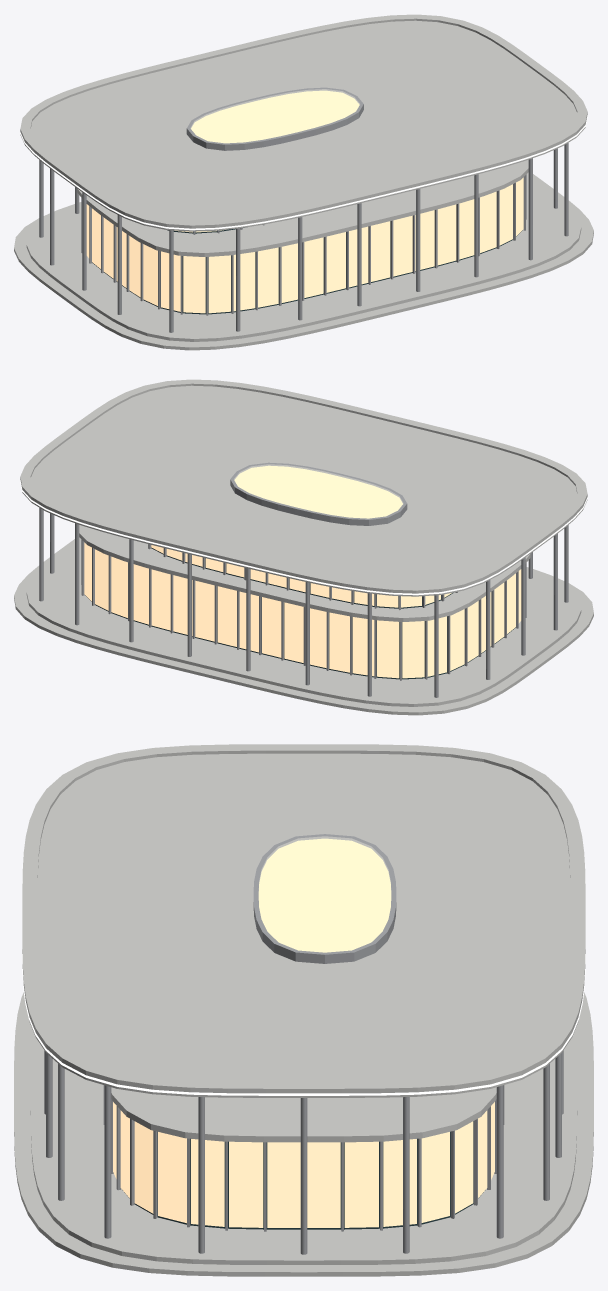
Rendered from glass-pavilion.glb.
3 renders of one model, top to bottom at view 1: azimuth 30°, elevation 25°; view 2: azimuth 150°, elevation 25°; view 3: azimuth 270°, elevation 25°, orthographic. The views are drawn at different scales.
Visible parts, largest first — view 1: Body_Concrete, Windows, Body_Metal, Accent, Body_Glass; view 2: Body_Concrete, Windows, Body_Metal, Body_Glass, Accent; view 3: Body_Concrete, Windows, Body_Metal, Accent, Body_Glass.
Boxes of the visible parts, x1,y1,x2,y2 form: Body_Concrete: (14, 14, 593, 350); Windows: (86, 90, 523, 313); Body_Metal: (39, 87, 568, 332); Accent: (20, 114, 587, 230); Body_Glass: (92, 221, 522, 314); Body_Concrete: (14, 379, 593, 715); Windows: (84, 465, 521, 678); Body_Metal: (39, 462, 568, 697); Body_Glass: (85, 547, 515, 679); Accent: (20, 479, 587, 595); Body_Concrete: (14, 744, 593, 1276); Windows: (113, 838, 494, 1227); Body_Metal: (44, 834, 563, 1254); Accent: (22, 855, 585, 1095); Body_Glass: (122, 1121, 485, 1229).
Bounding box in the file's own units: 9.9 × 2.5 × 6.9.
